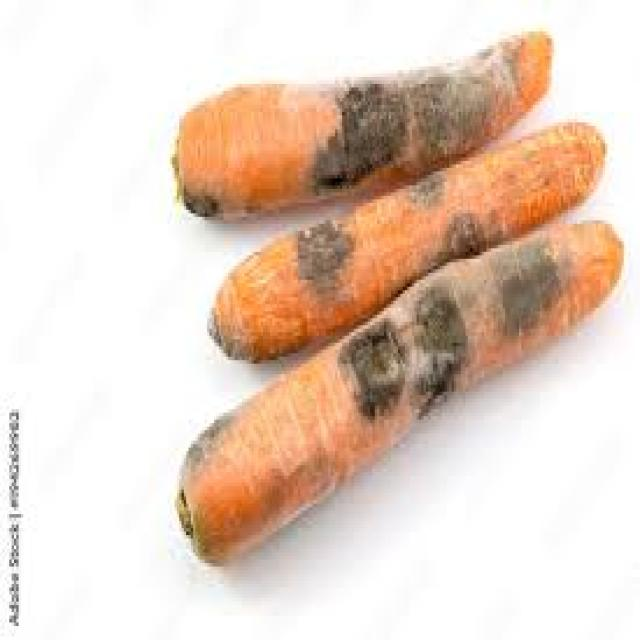Stale_Carrot: (175, 204, 624, 567), (196, 104, 599, 350), (176, 48, 556, 213)
